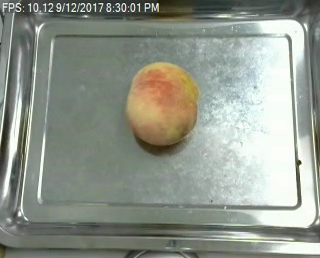Peach: (125, 60, 200, 146)
